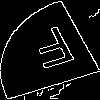F: (24, 24, 84, 79)
